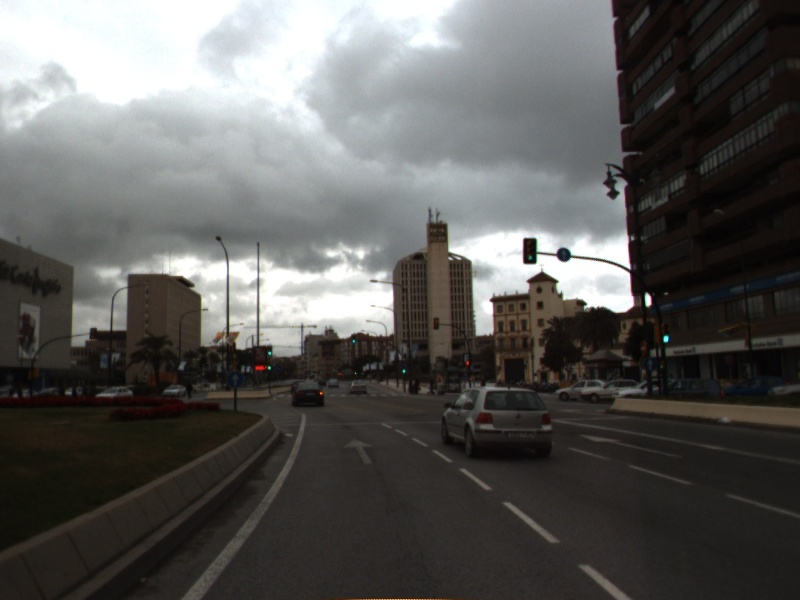STRAIGHT: (577, 431, 683, 460), (341, 436, 376, 466)
